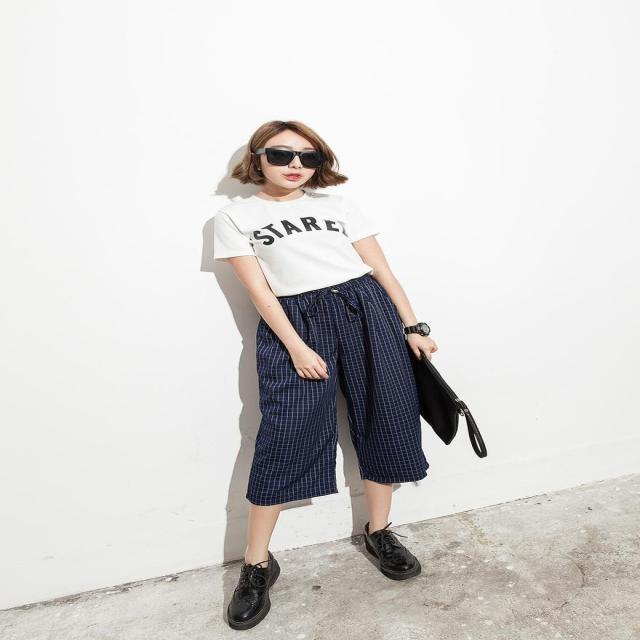short sleeve top: (215, 192, 379, 297)
trousers: (250, 277, 428, 498)
